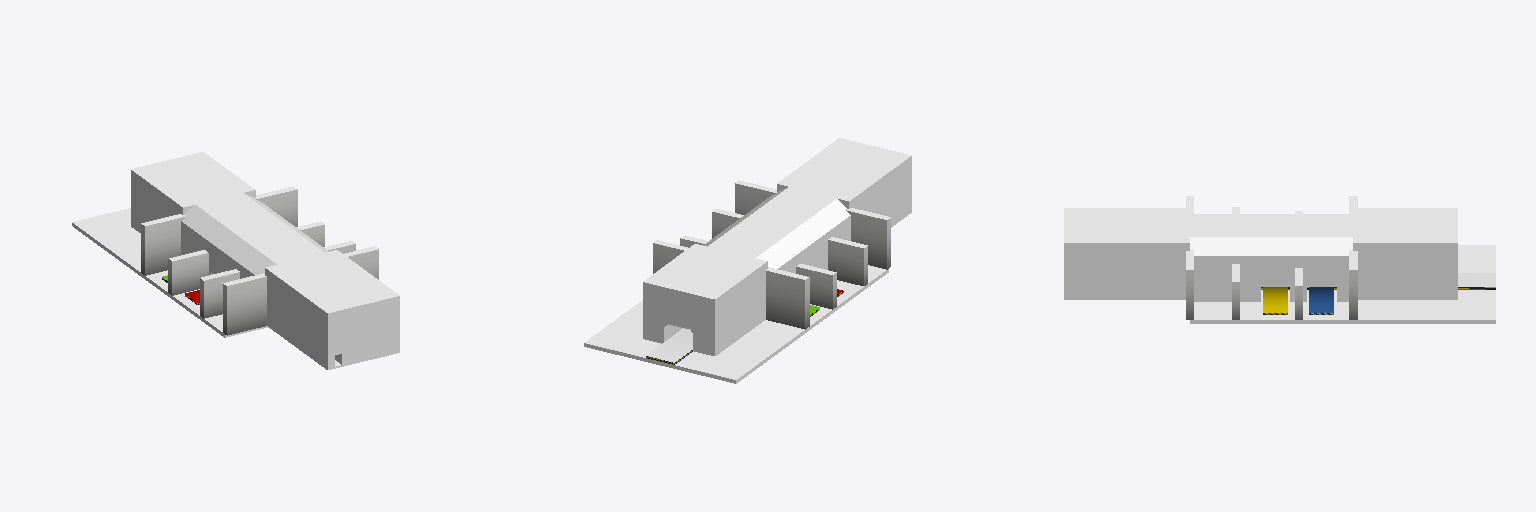
3 views of the same model, side by side, from view 1: azimuth 30°, elevation 25°; view 2: azimuth 150°, elevation 25°; view 3: azimuth 270°, elevation 25° (orthographic).
Visible parts, largest first — view 1: Room; view 2: Room, Belts; view 3: Room, Belts.
Boxes of the visible parts, box(x1,y1,x2,y2) form: Room: box(72, 152, 399, 369); Room: box(584, 138, 911, 383); Belts: box(646, 289, 843, 364); Room: box(1064, 196, 1495, 323); Belts: box(1261, 273, 1495, 314).
Size of the model in its own units: 42 by 16 by 103.
Materials: 1 (1 with a texture image).